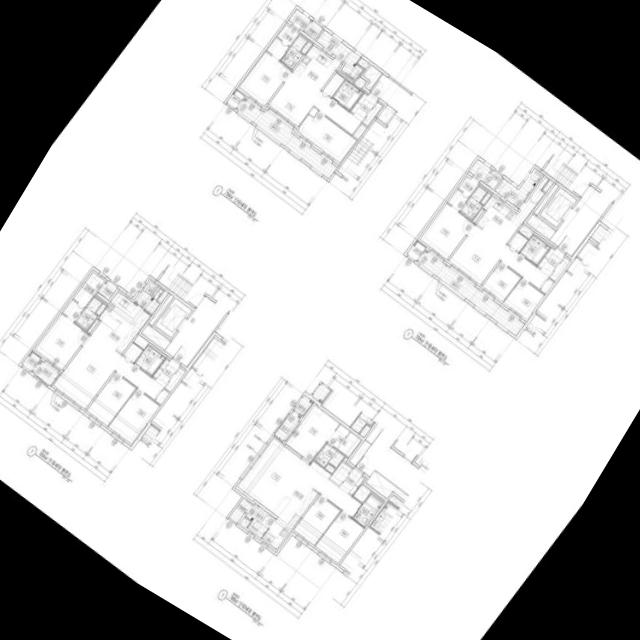background: (0, 0, 640, 640)
space_balconi: (417, 250, 524, 336), (236, 98, 337, 179), (315, 30, 362, 80), (494, 168, 543, 208), (245, 503, 275, 538), (134, 280, 163, 314), (274, 410, 301, 441), (32, 360, 59, 385), (288, 9, 310, 30)
space_bedroom: (419, 203, 474, 259), (285, 405, 339, 462), (35, 313, 89, 370), (297, 111, 356, 162), (239, 51, 291, 106), (108, 389, 159, 443), (86, 372, 135, 426), (315, 511, 364, 563), (293, 495, 340, 545), (503, 278, 544, 319), (482, 262, 520, 301)
space_dressroom: (62, 272, 104, 321), (266, 25, 298, 60), (327, 424, 360, 457), (447, 176, 478, 210)
space_elevator: (539, 187, 577, 227), (154, 298, 192, 338)
space_elevator_hall: (549, 185, 612, 256), (164, 296, 227, 367)
space_front: (349, 92, 382, 125), (152, 358, 180, 387), (537, 247, 565, 276), (339, 467, 364, 495)
space_kitchen: (477, 177, 548, 244), (261, 482, 319, 549), (93, 291, 150, 353), (293, 45, 341, 90)
space_living_room: (237, 438, 361, 517), (53, 332, 164, 409), (448, 223, 549, 289), (268, 70, 361, 134)
space_other: (468, 159, 502, 189), (533, 183, 558, 215), (141, 324, 171, 350), (148, 294, 173, 325), (526, 213, 555, 239), (348, 439, 371, 466), (229, 498, 252, 523), (322, 72, 344, 97), (329, 461, 351, 485), (549, 257, 570, 281), (164, 368, 185, 392), (363, 65, 381, 90), (508, 232, 527, 252), (123, 342, 142, 362), (97, 281, 117, 300), (377, 104, 395, 124), (303, 21, 322, 39), (353, 485, 370, 503), (352, 123, 366, 139), (540, 278, 554, 294), (155, 389, 169, 404), (518, 225, 533, 238), (87, 319, 99, 333), (357, 57, 369, 69), (353, 77, 365, 89), (472, 209, 483, 222), (95, 303, 106, 315), (300, 42, 311, 54), (480, 192, 491, 204), (542, 180, 552, 192), (157, 291, 167, 302), (240, 517, 250, 527), (325, 464, 335, 473)
space_outdoor_room: (293, 395, 313, 416), (21, 351, 40, 371), (226, 89, 244, 108)
space_toilet: (352, 493, 383, 527), (134, 345, 165, 376), (519, 234, 550, 265), (332, 79, 362, 110), (280, 35, 307, 69), (460, 186, 487, 220), (75, 296, 102, 330), (314, 443, 344, 468)
